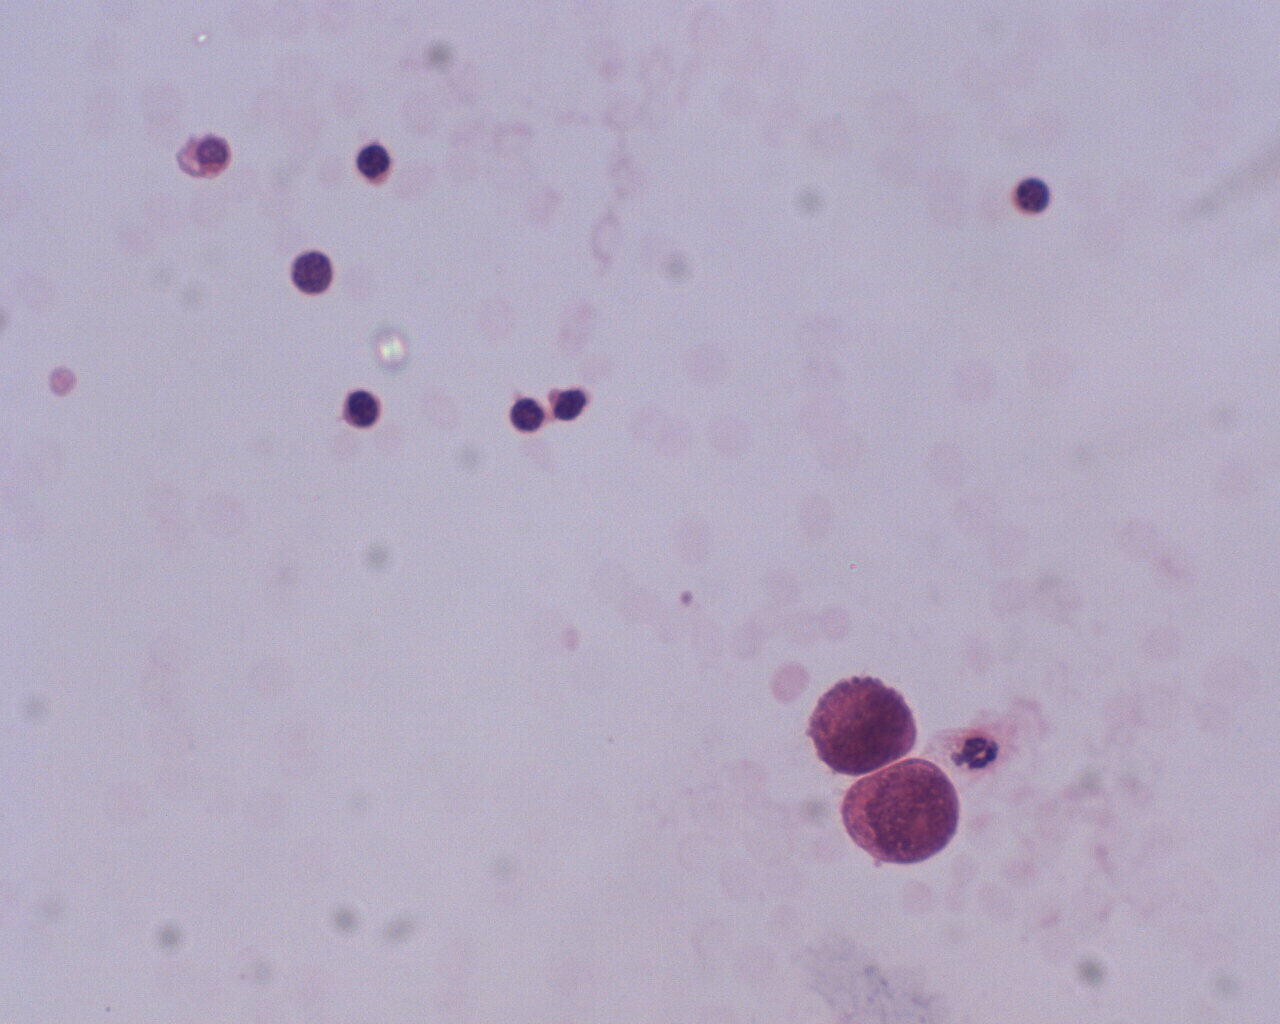ab: (834, 758, 960, 869), (809, 670, 920, 782)
lymph: (1008, 167, 1057, 223), (335, 386, 385, 436), (353, 137, 397, 189)
